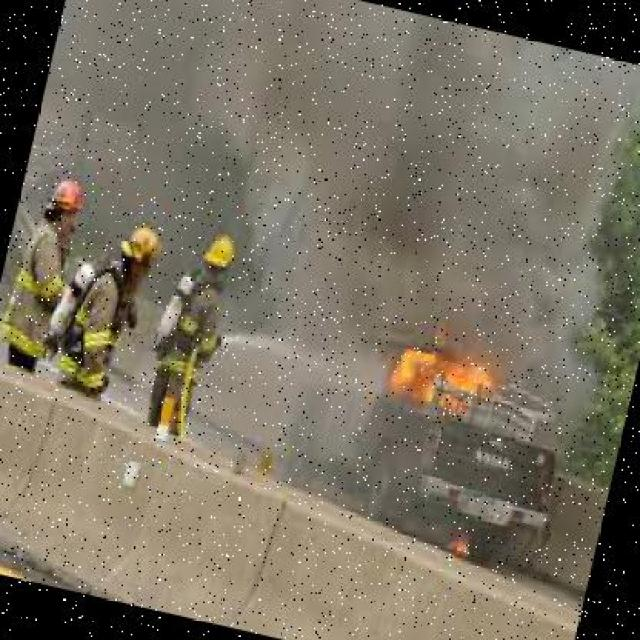fire: (364, 309, 510, 443)
